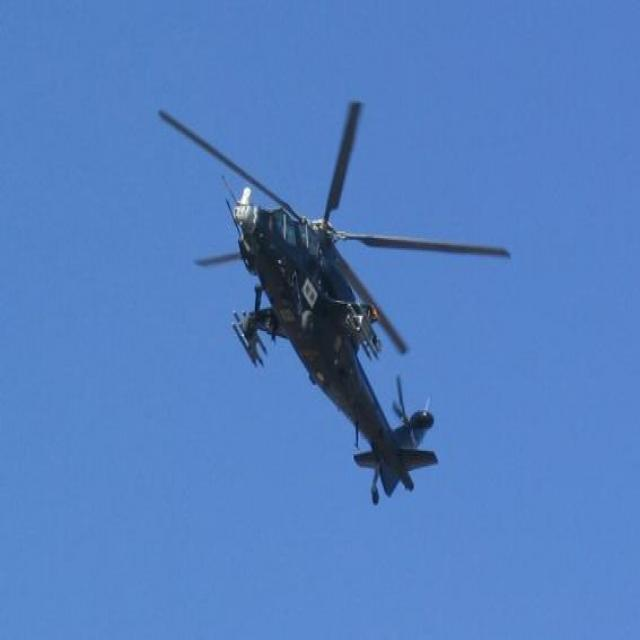MIL_HELO: (147, 70, 532, 542)
